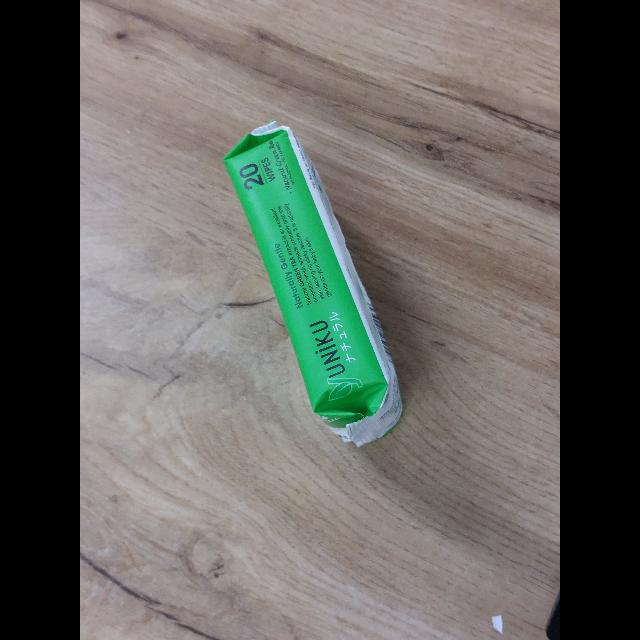khan_giay: (222, 123, 403, 449)
